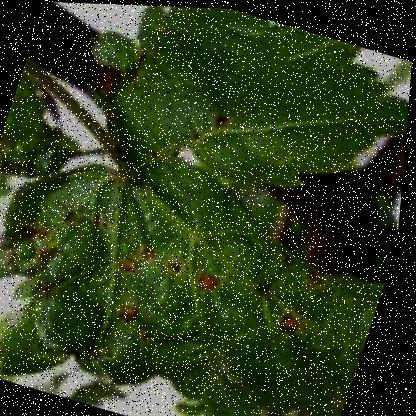AlternariaBrassicicola: (199, 94, 245, 146), (272, 303, 317, 344), (110, 245, 153, 280), (190, 263, 231, 299), (116, 298, 153, 332)
